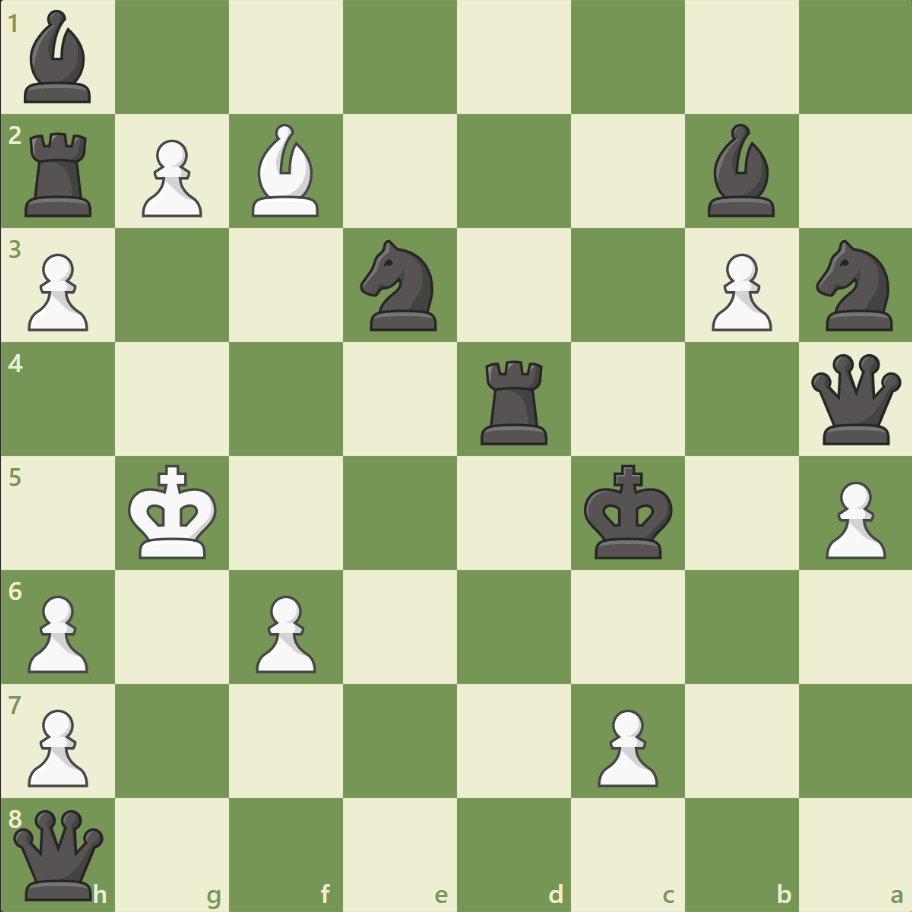B: (244, 120, 328, 222)
K: (124, 458, 224, 566)
P: (20, 700, 95, 791), (247, 586, 322, 677), (20, 586, 95, 677), (701, 246, 776, 337), (20, 246, 95, 337), (133, 132, 208, 223), (588, 700, 662, 791), (815, 473, 889, 564)
b: (17, 6, 101, 109), (698, 120, 782, 222)
k: (579, 458, 679, 566)
n: (351, 234, 449, 337), (806, 234, 903, 337)
q: (805, 349, 904, 449), (10, 804, 109, 903)
r: (473, 352, 556, 449), (19, 125, 102, 222)
